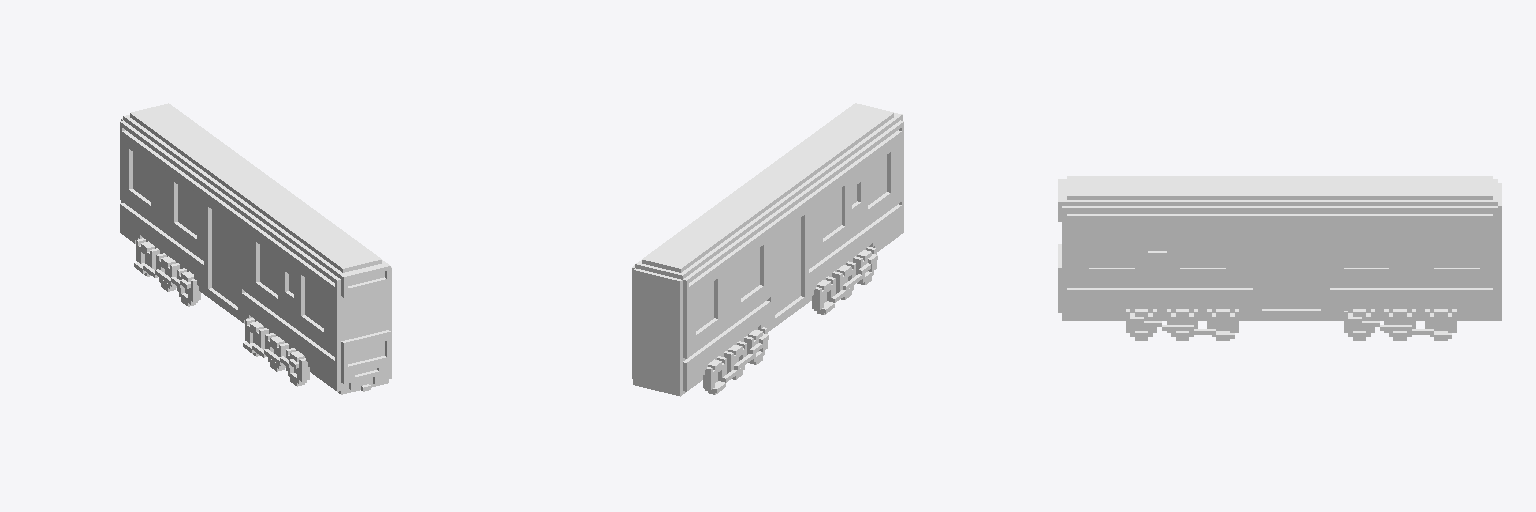
Rendered from train-1.obj.
3 renders of one model, left to right at view 1: azimuth 30°, elevation 25°; view 2: azimuth 150°, elevation 25°; view 3: azimuth 270°, elevation 25°, orthographic.
Parts seen in each view (by area): view 1: object 1; view 2: object 1; view 3: object 1.
Part boxes in pixels (x1,y1,x2,y2): object 1: (120, 103, 391, 394); object 1: (632, 103, 903, 396); object 1: (1058, 176, 1501, 340).
Size of the model in its own units: 1.8 by 3.4 by 9.8.